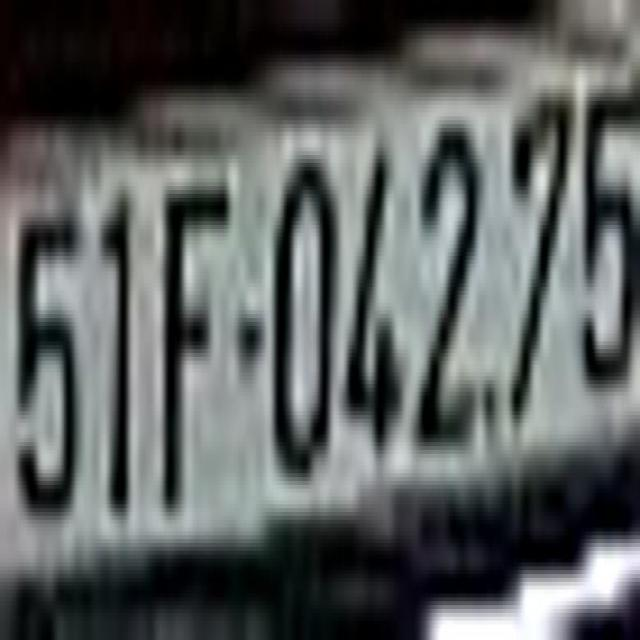0: (272, 147, 334, 489)
1: (98, 171, 134, 504)
2: (415, 86, 479, 473)
4: (348, 143, 399, 481)
5: (17, 198, 82, 527), (581, 70, 640, 376)
7: (507, 54, 573, 427)
F: (163, 170, 231, 528)
